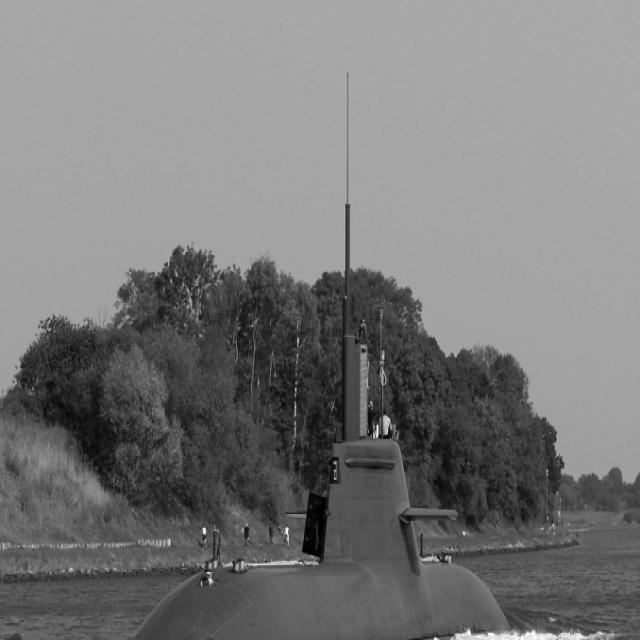submarine: (9, 196, 528, 640)
